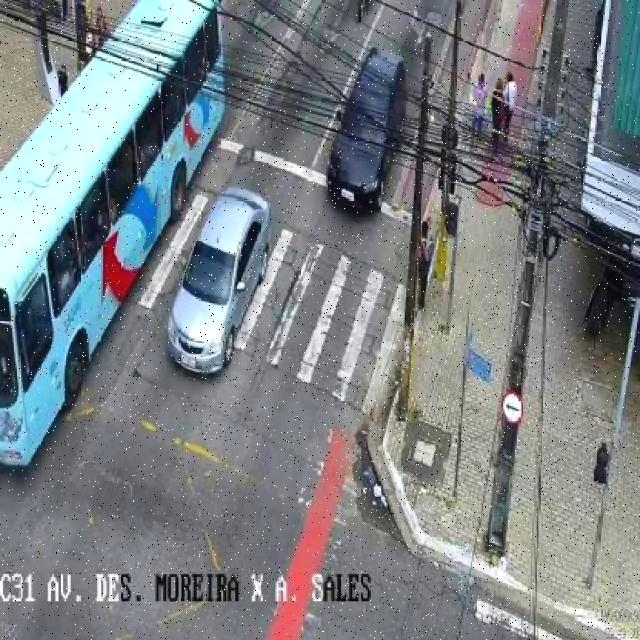Bus: (0, 0, 241, 481)
Car: (167, 153, 278, 424), (309, 44, 424, 218)
